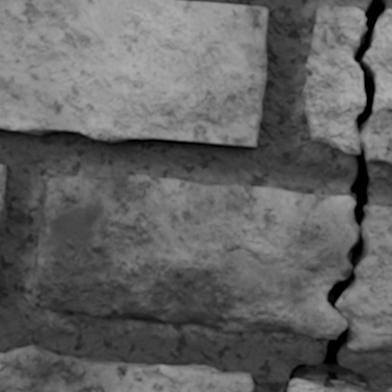brick: (0, 0, 267, 146), (0, 346, 253, 391), (287, 380, 358, 391), (0, 165, 7, 242)
broken_brick: (32, 174, 354, 339), (301, 4, 363, 154), (338, 205, 391, 351), (366, 8, 391, 165)
crack: (288, 0, 389, 391), (0, 364, 8, 371)
